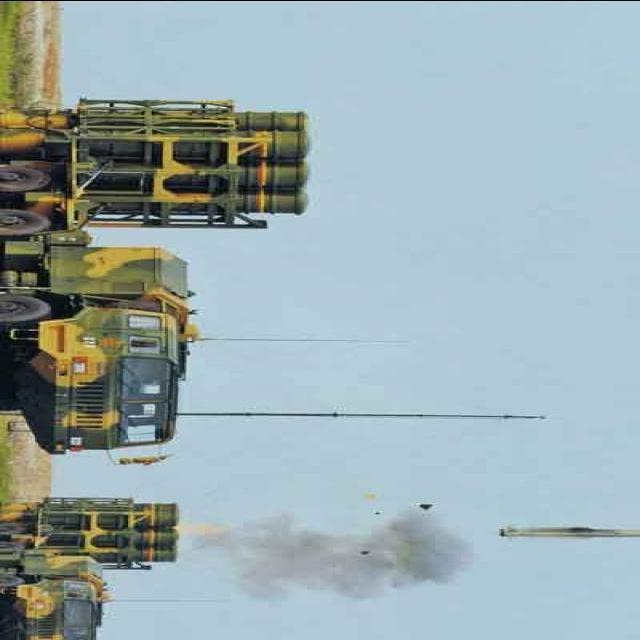missile: (498, 524, 624, 542)
